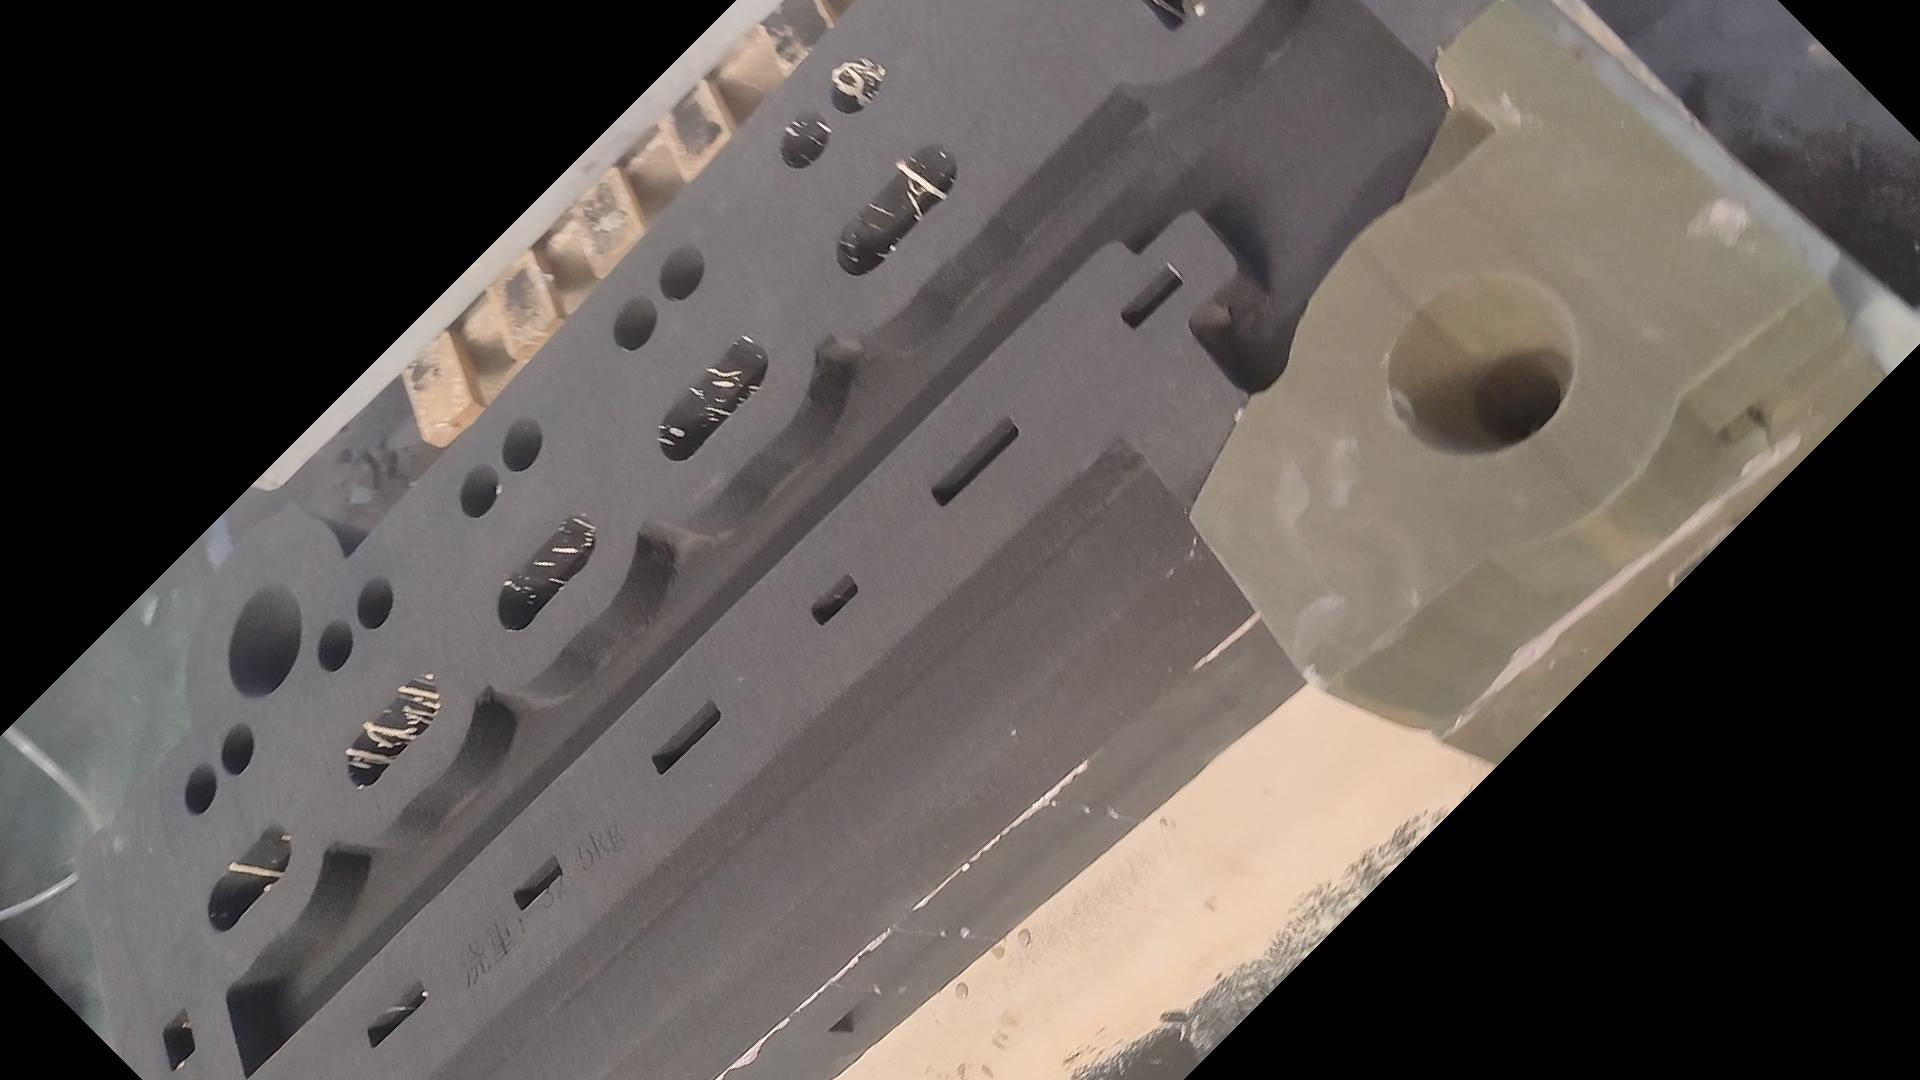pouring hole: (1383, 268, 1578, 460), (225, 582, 305, 700)
